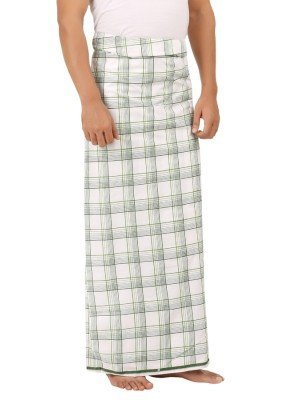lungi: (80, 37, 216, 371)
